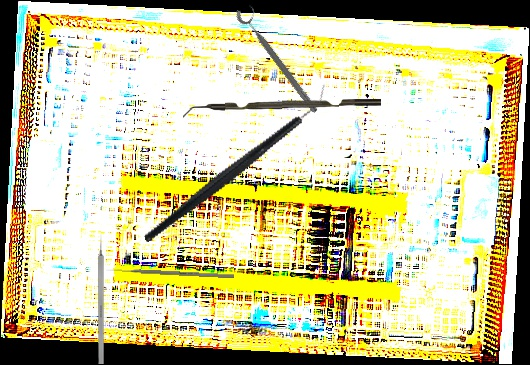Chopper: (116, 83, 355, 243), (182, 98, 382, 119)
Fixation Ring: (233, 1, 327, 116)
Hook Surgical: (98, 231, 104, 364)
Pusher: (105, 267, 235, 279)
